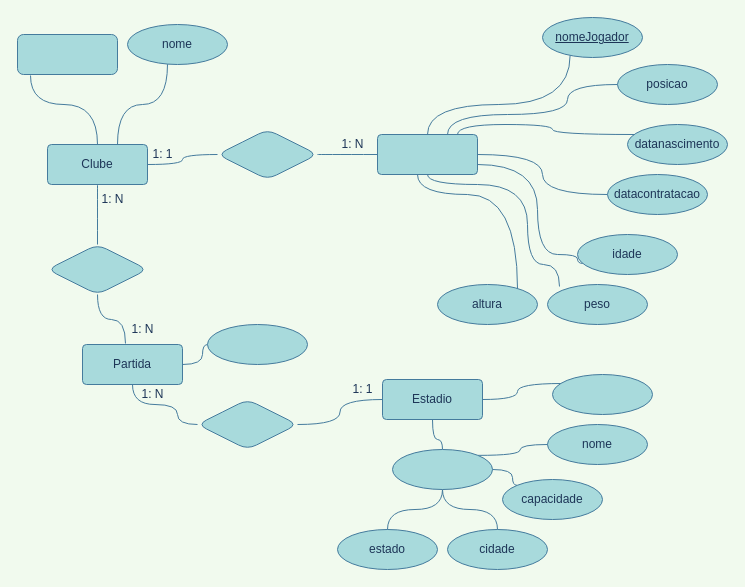
Image size: 745x587. Some labels were removed from this diagram. The shapes that lost their labels are listed below. From the top down, each one's centre as x and y in pixels, then its label:
At point (67, 54): "codigoClube".
At point (267, 154): "contrata".
At point (427, 154): "Jogador".
At point (97, 269): "joga".
At point (257, 344): "codigoPartida".
At point (602, 394): "codigoEstadio".
At point (247, 424): "realiza".
At point (442, 469): "endereco".
